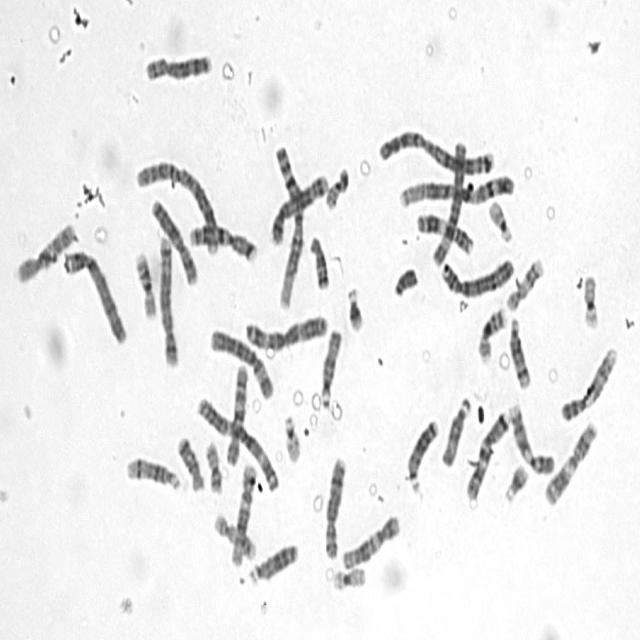A1: (270, 137, 307, 313), (395, 166, 516, 209)
A2: (130, 153, 222, 255), (374, 121, 498, 176)
A3: (194, 390, 280, 493), (241, 306, 330, 352)
B4: (58, 241, 128, 347), (436, 249, 516, 300)
B5: (268, 166, 330, 247), (153, 229, 180, 368)
C10: (12, 214, 77, 285), (221, 356, 250, 468)
C11: (540, 414, 600, 509), (412, 206, 476, 257)
C12: (338, 508, 402, 571), (226, 457, 258, 568)
C6: (427, 133, 469, 269), (206, 321, 275, 401)
C7: (461, 403, 512, 503), (185, 216, 259, 264)
C8: (320, 450, 348, 561), (140, 45, 213, 83)
C9: (557, 339, 619, 424), (505, 396, 556, 476)
D13: (402, 412, 440, 494), (245, 536, 300, 586)
D14: (122, 449, 182, 494), (505, 310, 532, 391)
D15: (437, 389, 473, 468), (317, 322, 343, 411)
E16: (474, 300, 509, 364), (130, 244, 158, 320)
E17: (503, 250, 546, 313), (210, 507, 257, 561)
E18: (173, 429, 205, 493), (305, 228, 331, 291)
F19: (578, 267, 601, 331), (328, 559, 367, 593)
F20: (321, 160, 351, 211), (201, 434, 224, 495)
G21: (500, 456, 530, 504), (343, 279, 365, 334)
G22: (484, 193, 514, 244), (280, 407, 303, 465)
X: (146, 192, 200, 287)
Y: (390, 260, 419, 298)
